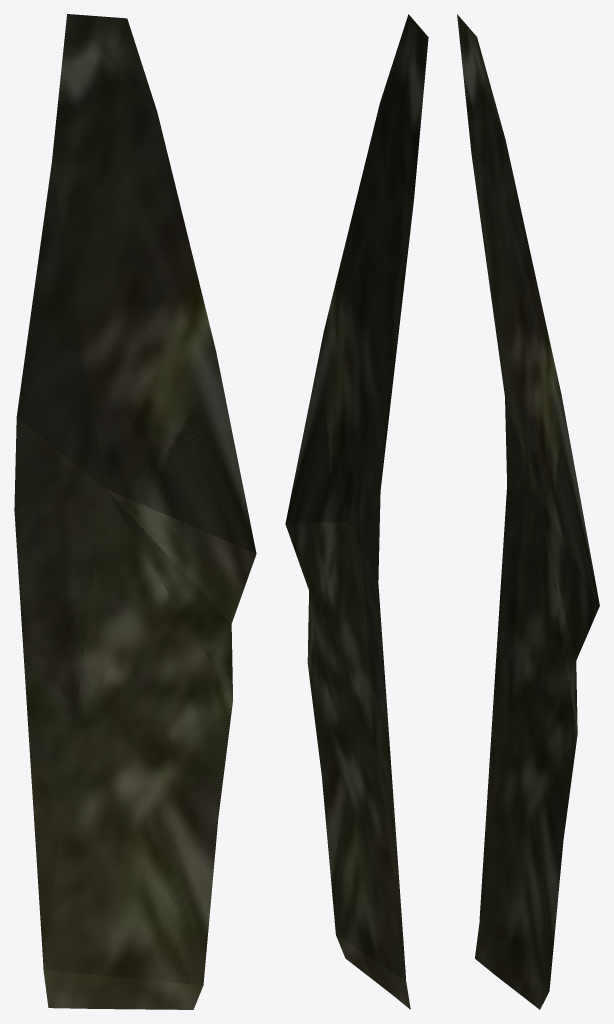
3 views of the same model, side by side, from view 1: azimuth 30°, elevation 25°; view 2: azimuth 150°, elevation 25°; view 3: azimuth 330°, elevation 25° (orthographic). The views are drawn at different scales.
Bounding box in the file's own units: 0.5204 × 2.95 × 0.3832.
1 material, 1 textured.
